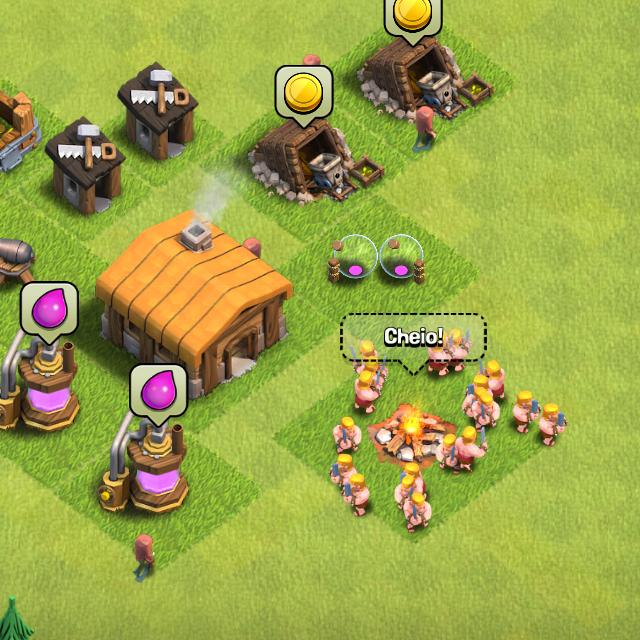Elixir: (127, 362, 188, 429), (19, 280, 79, 348)
coin: (268, 64, 334, 120), (383, 0, 444, 38)
